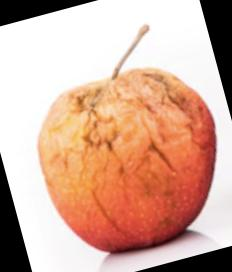Apple: (42, 73, 215, 253)
